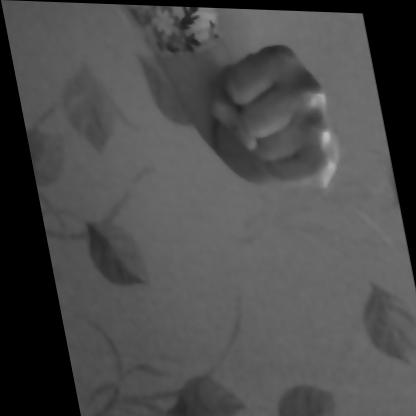fist: (156, 17, 352, 208)
